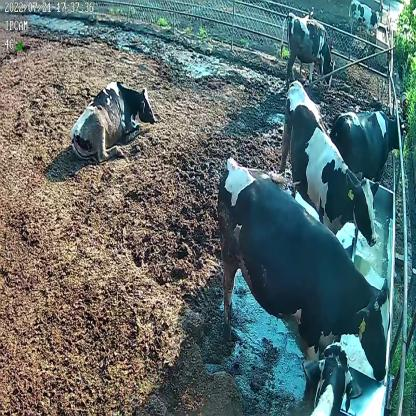cow: (217, 154, 389, 389), (280, 80, 377, 250), (69, 78, 155, 159), (327, 110, 408, 179), (280, 13, 336, 92)
